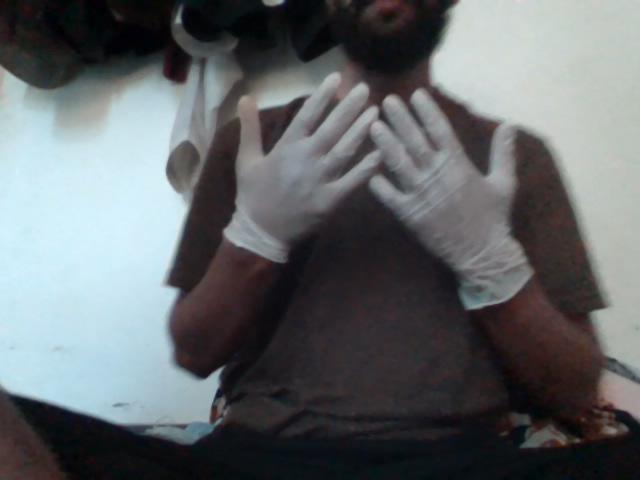gloves: (375, 86, 549, 285), (204, 74, 375, 276)
